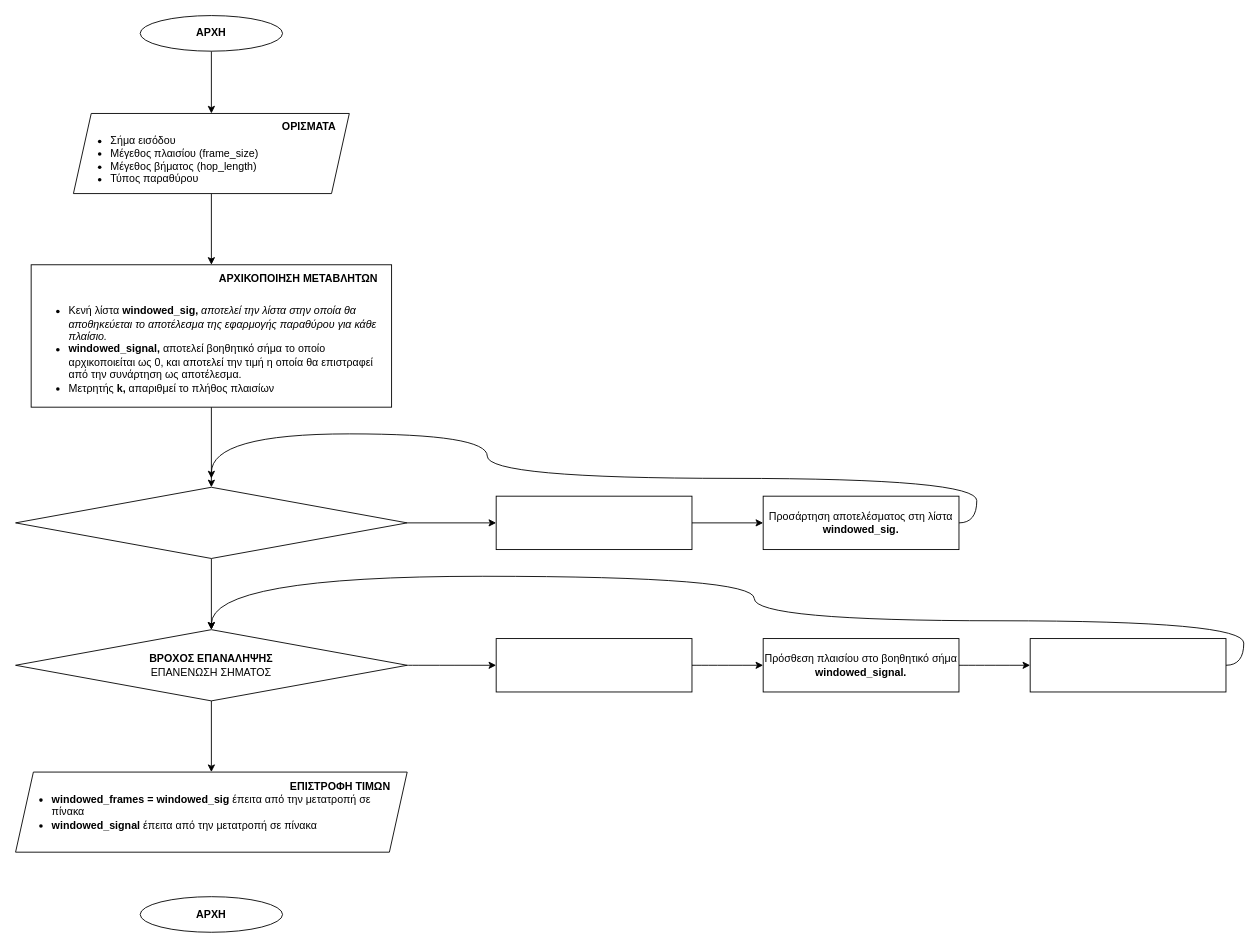
Some shapes in this 1259 by 948 pixel diagram are drawn without their labels. The box of each missing label's shape, as (x1, y1, x2, y2) in pixels:
Αύξηση μετρητή πλαισίων k κατά ένα.: (1029, 638, 1226, 692)
ΒΡΟΧΟΣ ΕΠΑΝΑΛΗΨΗΣ ΕΠΕΞΕΡΓΑΣΙΑ ΠΛΑΙΣΙΟ ΠΡΟΣ ΠΛΑΙΣΙΟ: (15, 486, 407, 558)
Πολλαπλασιασμός τρέχοντος πλαισίου με τη συνάρτηση παραθύρωσης.: (495, 495, 692, 550)
Συμπλήρωση τρέχοντος πλαισίου: (495, 638, 692, 692)
